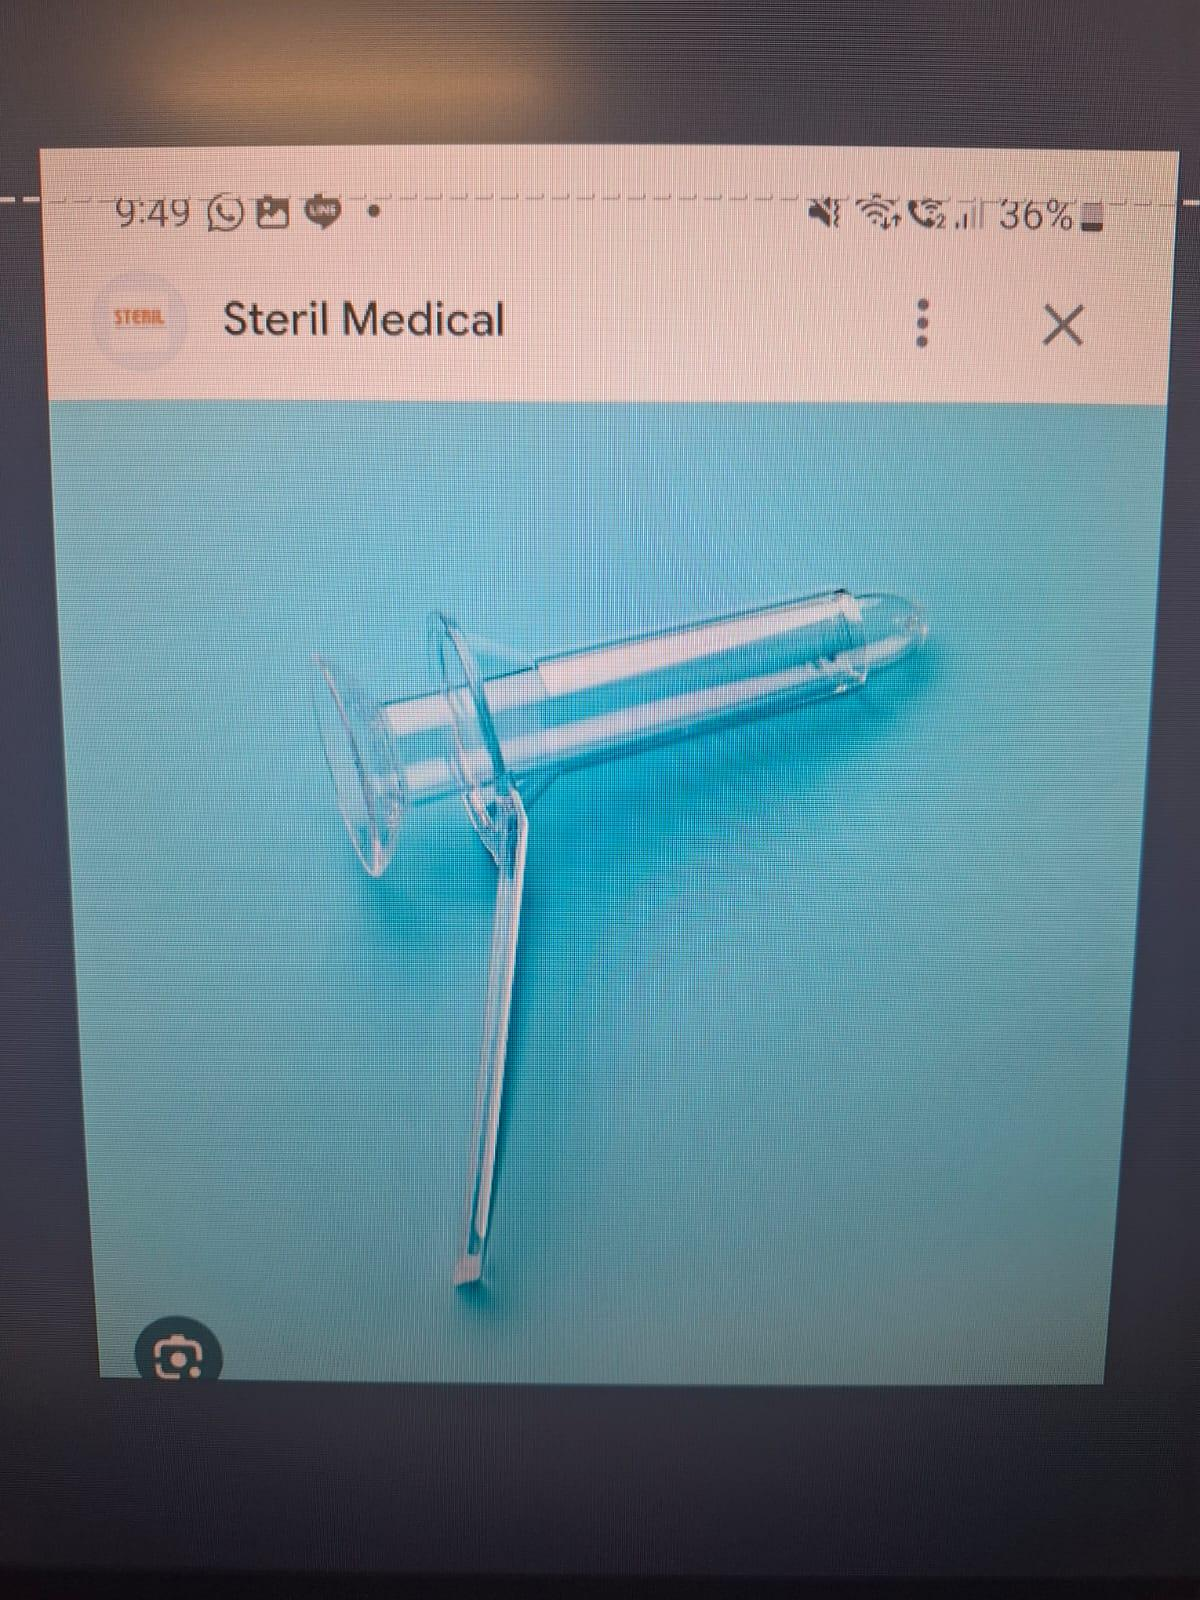Protoscope: (300, 585, 938, 1335)
